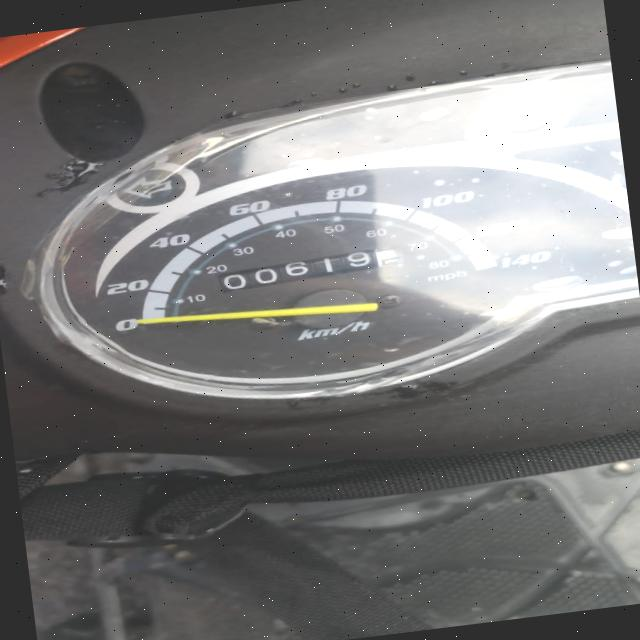odometer: (212, 242, 409, 294)
